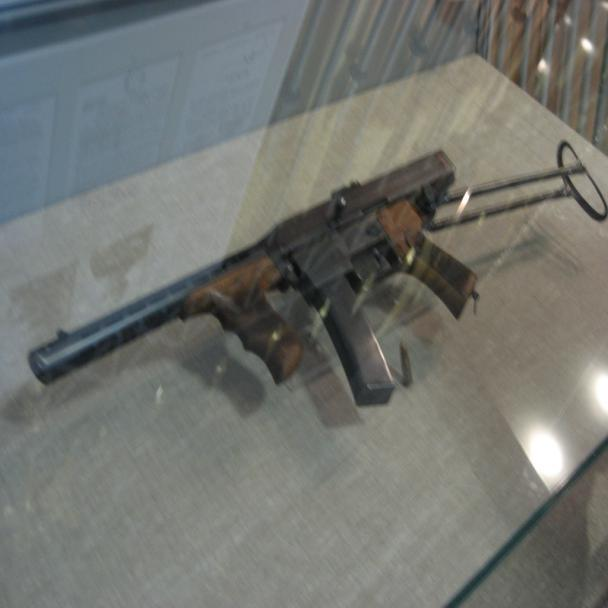Gun: (31, 140, 607, 405)
